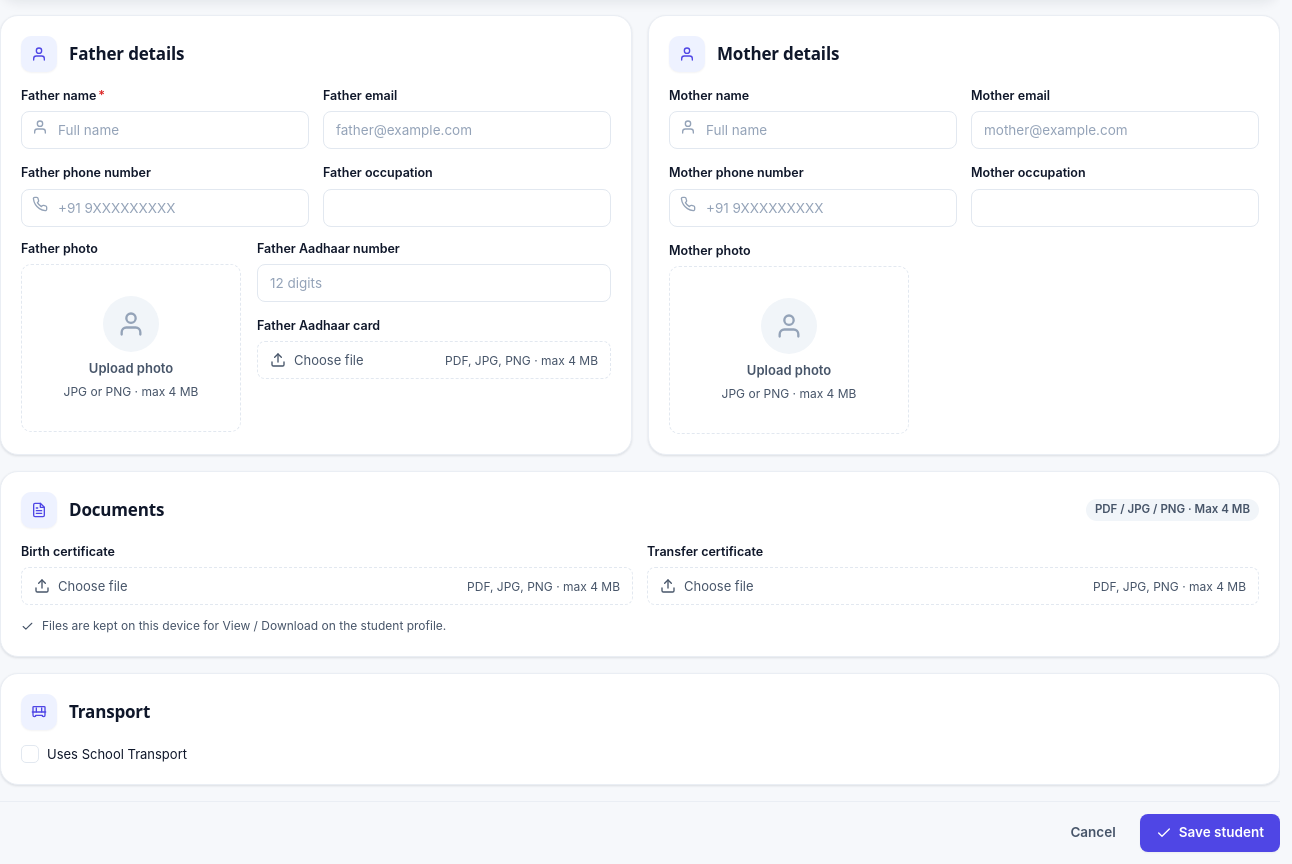
Transport section › hides Route/Stop until "Uses School Transport" is Yes
This screenshot has width=1292, height=864.
(page scrolled)
Expected: the text "Uses School Transport" is shown, 47,744 -> 187,764
Expected: the text "Route" is not shown
Click the checkbox labelled "Uses School Transport": (104, 754) 21,745 -> 187,763
(page scrolled)
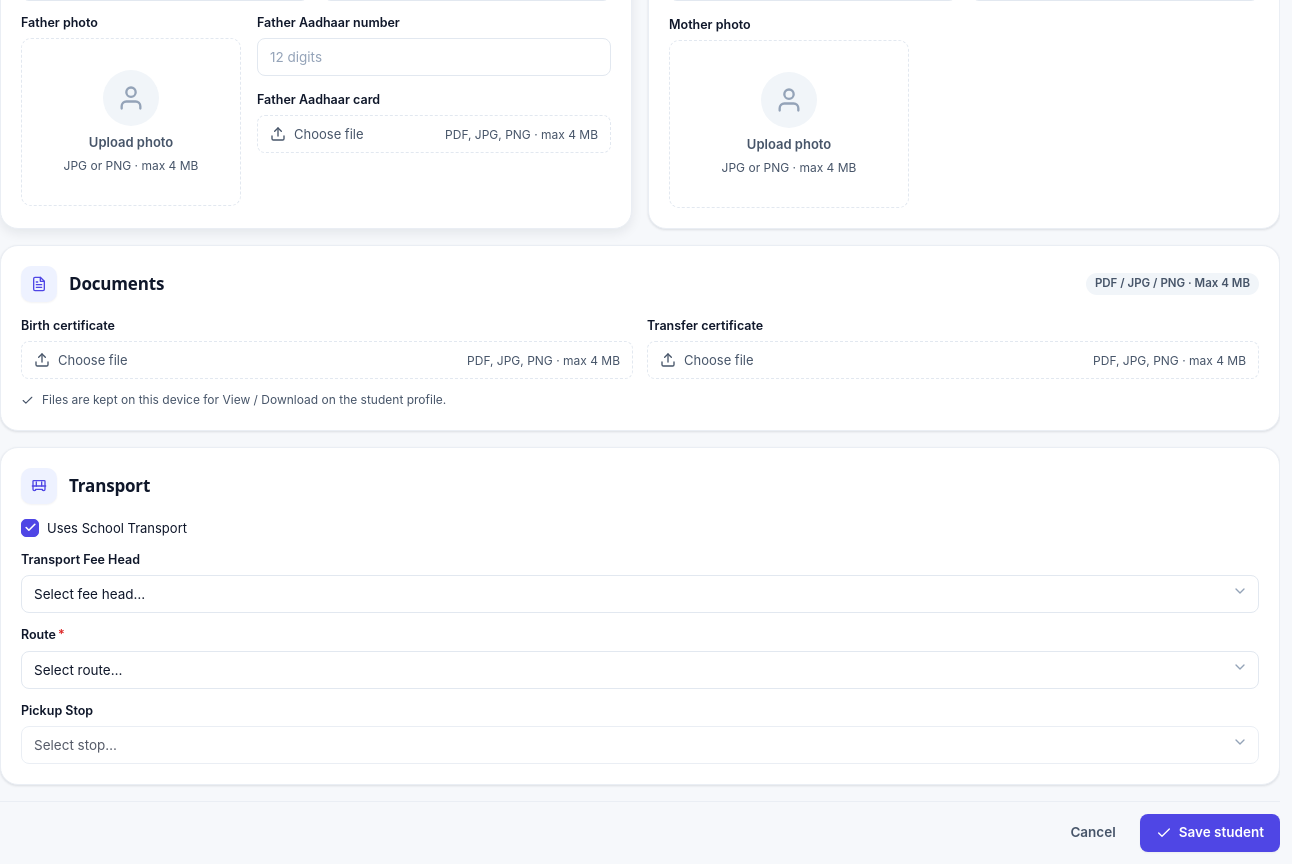
Now the text "Route" is shown, box 21,627 -> 56,642
